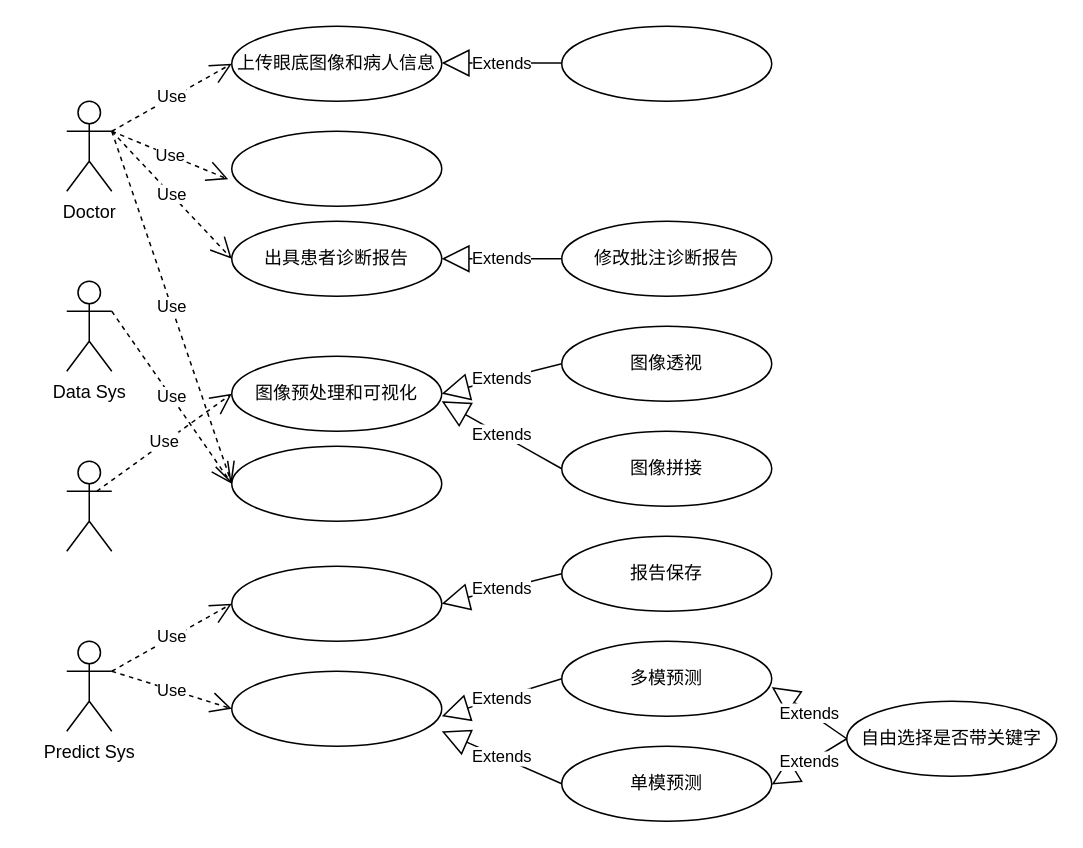
Image size: 1083x848. Some labels were removed from this diagram. The centre of each missing label's shape, as x and y in pixels:
"Preprocess Sys" goes at (x=88, y=505).
"可视化结果导出" goes at (x=666, y=63).
"患者数据分析与可视化" goes at (x=336, y=168).
"生成智能诊断报告" goes at (x=336, y=603).
"疾病预测" goes at (x=336, y=708).
"诊断历史管理" goes at (x=336, y=483).
